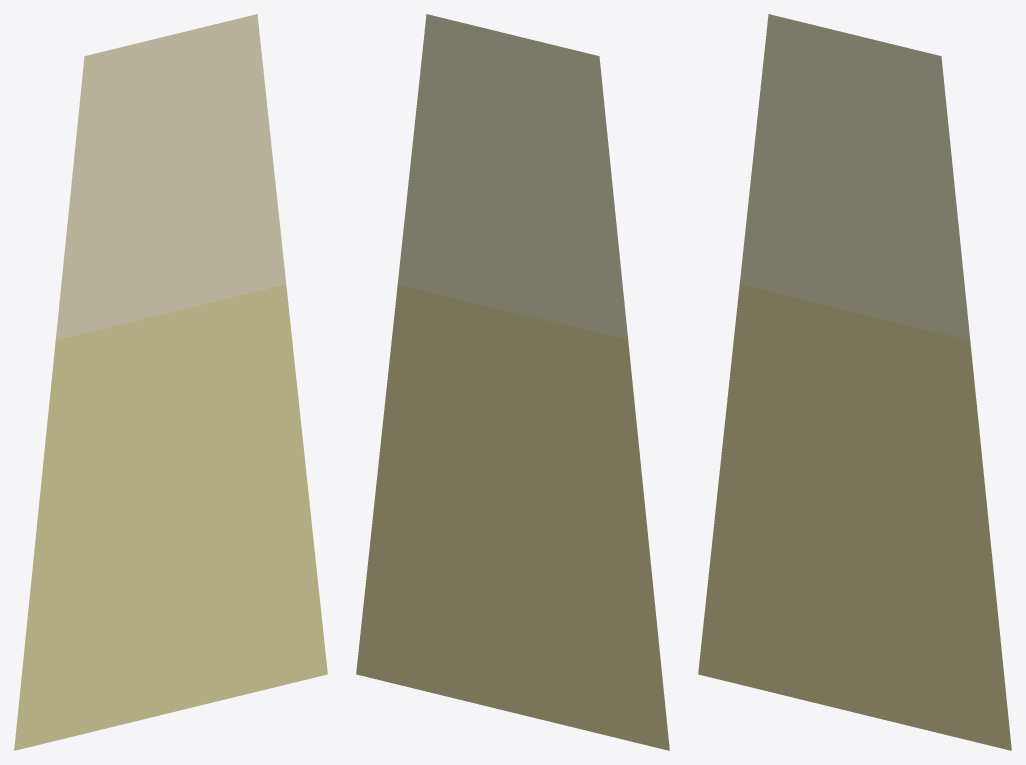
File: LightYellow_02.fbx
The picture shows the model from 3 angles, left to right: view 1: azimuth 30°, elevation 25°; view 2: azimuth 150°, elevation 25°; view 3: azimuth 330°, elevation 25°; orthographic projection.
Parts seen in each view (by area): view 1: LightYellow_02; view 2: LightYellow_02; view 3: LightYellow_02.
Part boxes in pixels (bbox=[...]): LightYellow_02: bbox=[14, 14, 327, 750]; LightYellow_02: bbox=[356, 14, 669, 750]; LightYellow_02: bbox=[698, 14, 1011, 750].
Bounding box in the file's own units: 133 × 274 × 3.27e-05.
Materials: 1 (1 with a texture image).
